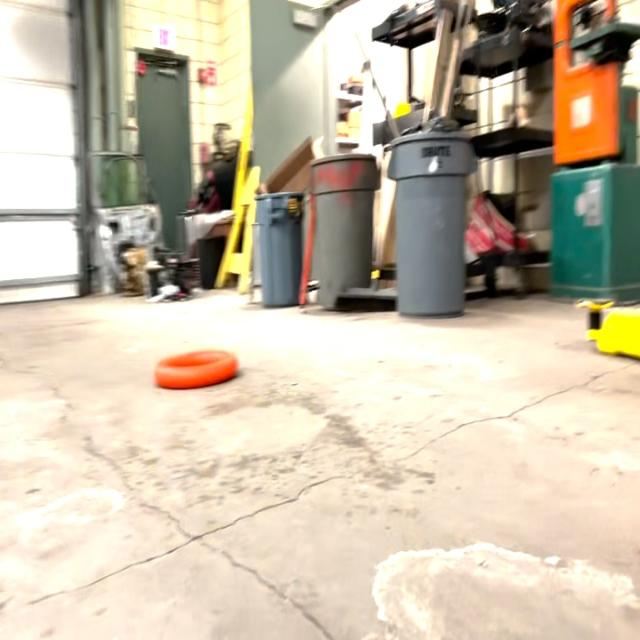note: (152, 344, 241, 391)
